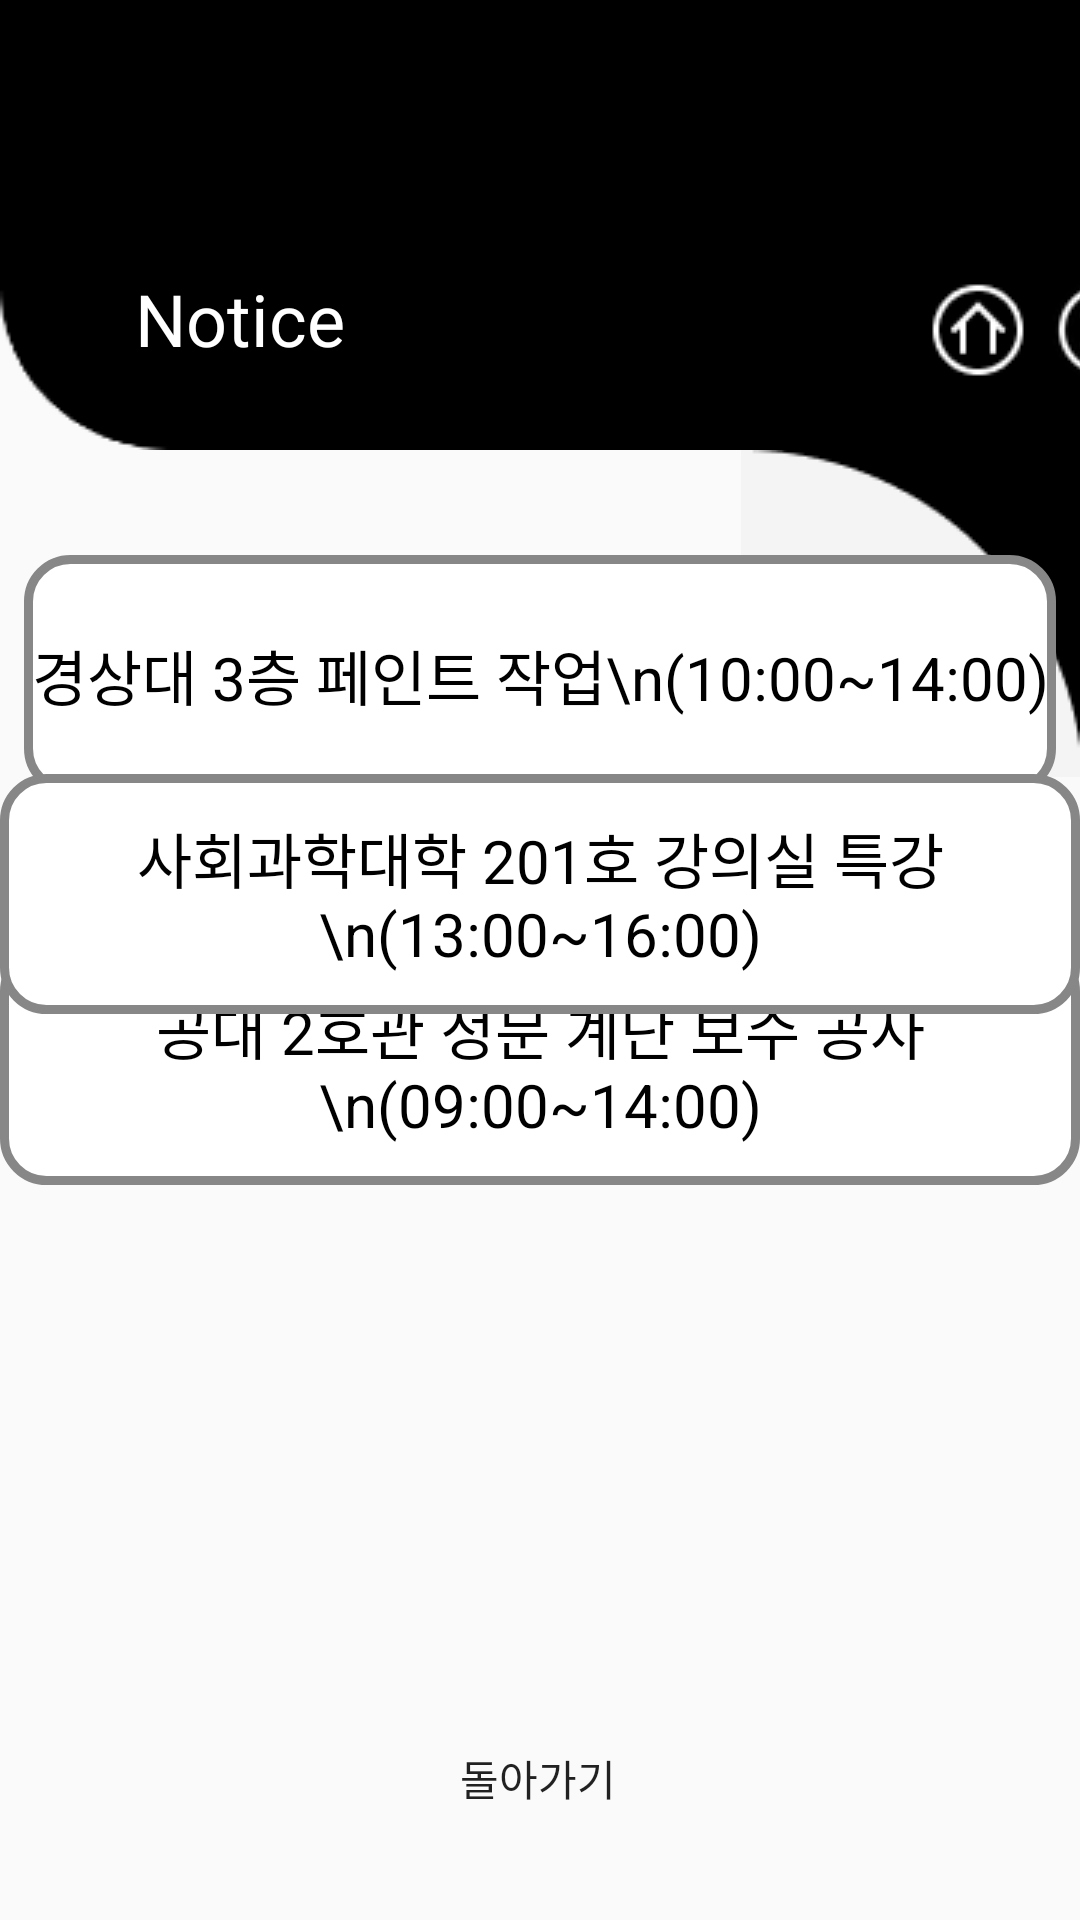

Point at icon controls on the screen. Image size 1080px x 1920px, points as point (x, y).
home: point (978, 330)
